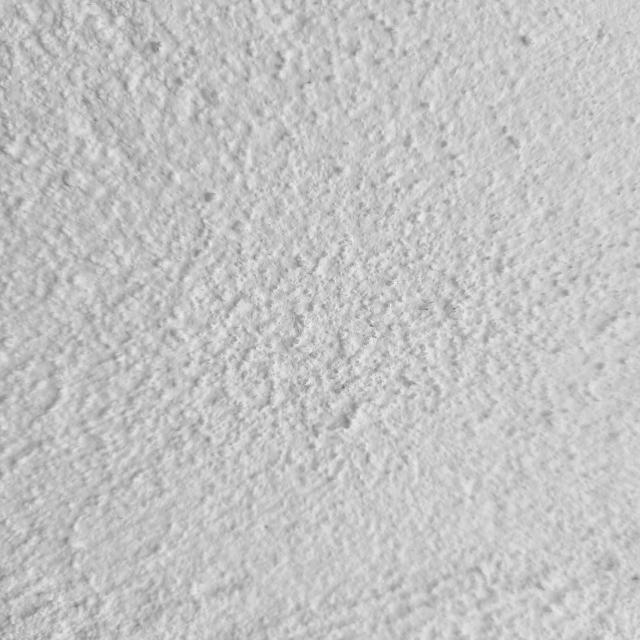rough and patchy surface: (7, 2, 635, 635)
